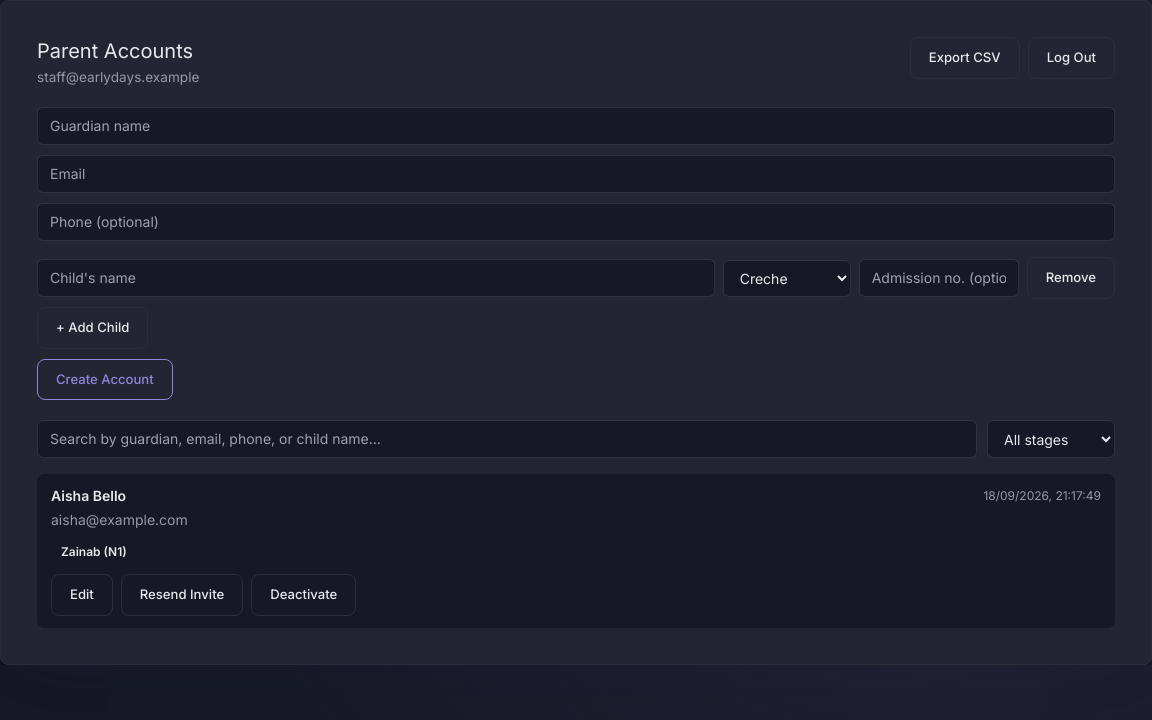
Test case: AdminParentsPanel › edits a parent's email and updates the list in place
Step 1. Click the button "Edit" → [82, 595], box x1=51 y1=574 x2=113 y2=616
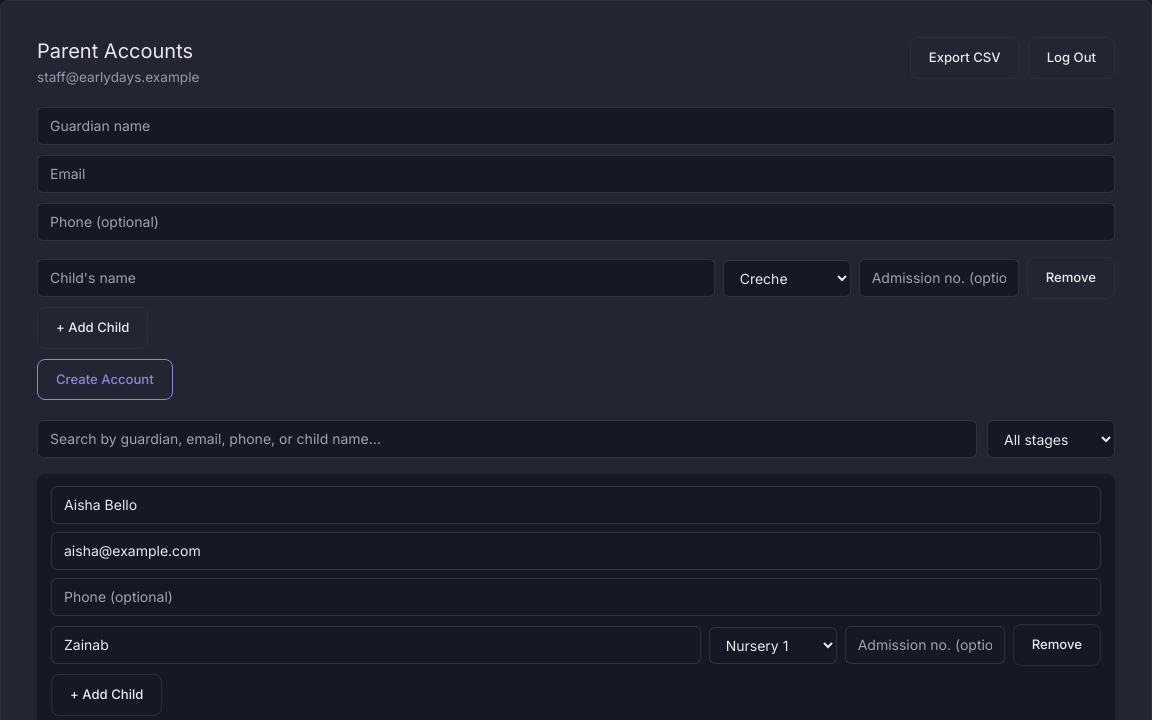
Step 2. Replace the text in the 2nd field with placeholder "Email" with "new@example.com" → [576, 552], box x1=51 y1=532 x2=1101 y2=570
(page scrolled)
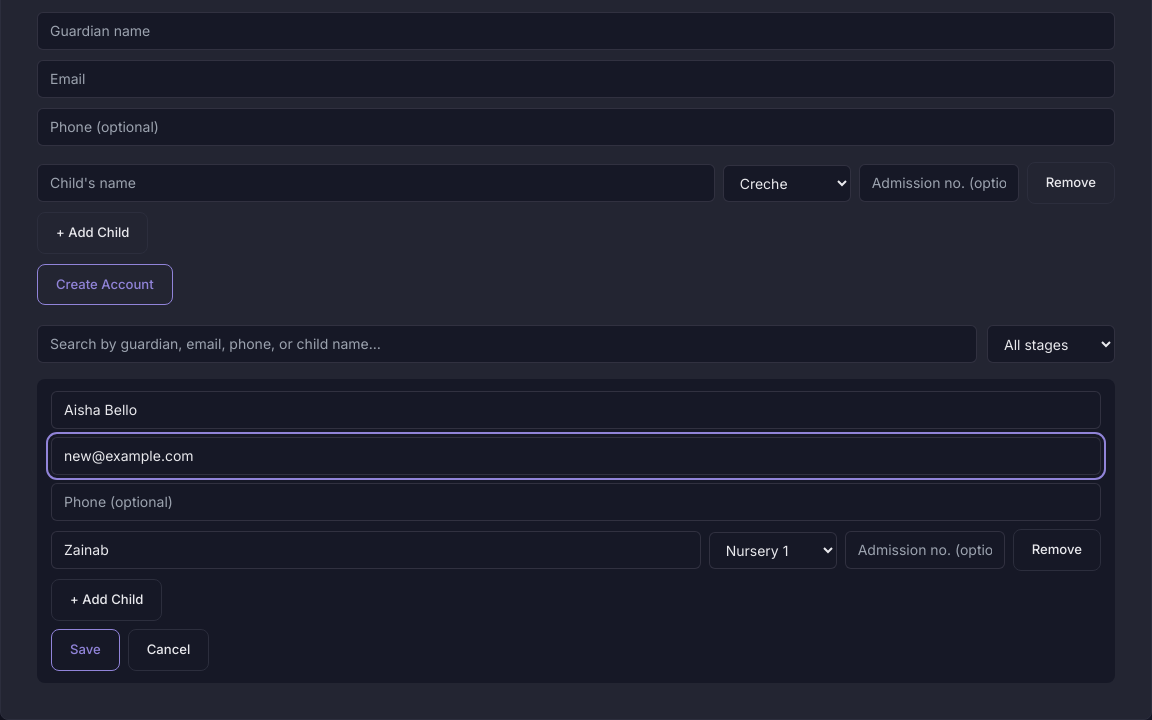
Step 3. Click the button "Save" → [85, 650], box x1=51 y1=629 x2=120 y2=670
(page scrolled)
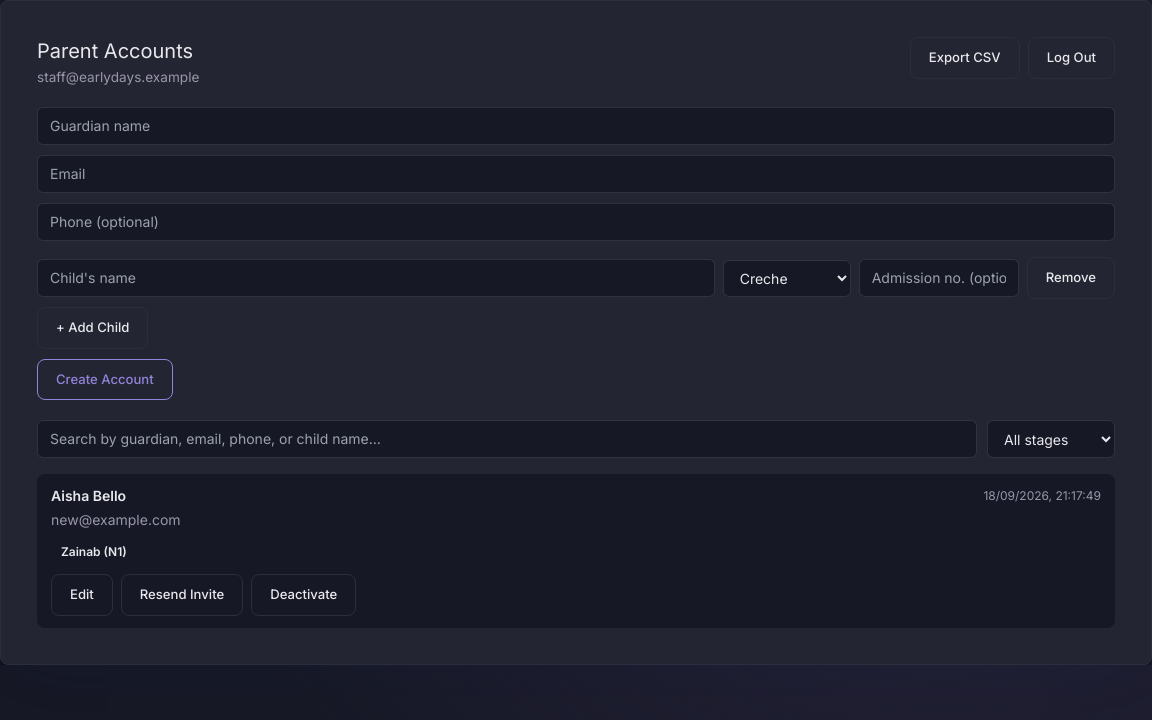
Now the text "new@example.com" is shown, box x1=51 y1=512 x2=181 y2=528
